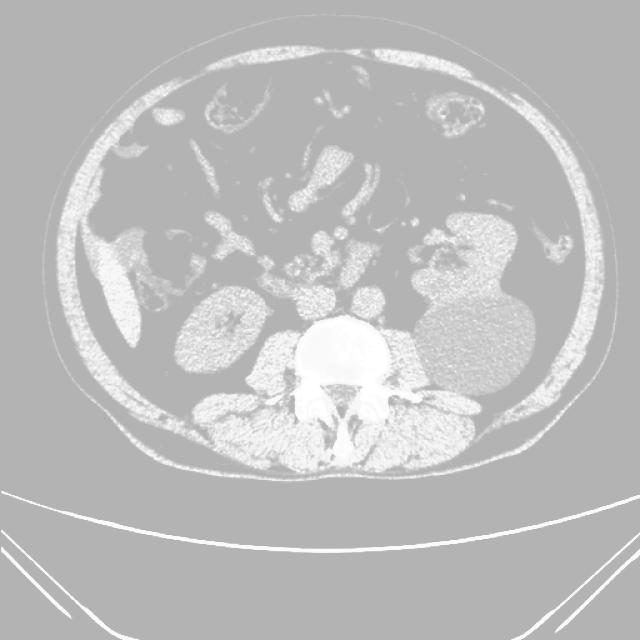cysts: (50, 39, 606, 480)
